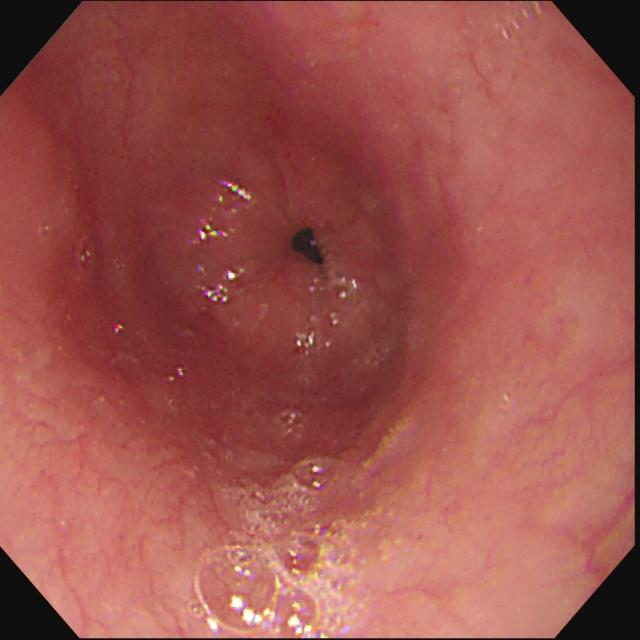I: (212, 152, 388, 364)
T: (187, 453, 365, 639)
U: (200, 267, 239, 303), (216, 179, 253, 216), (196, 217, 233, 248)
